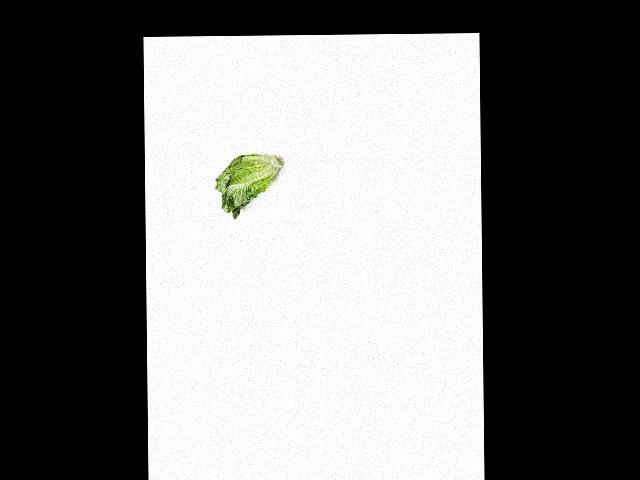lettuce: (211, 151, 280, 218)
